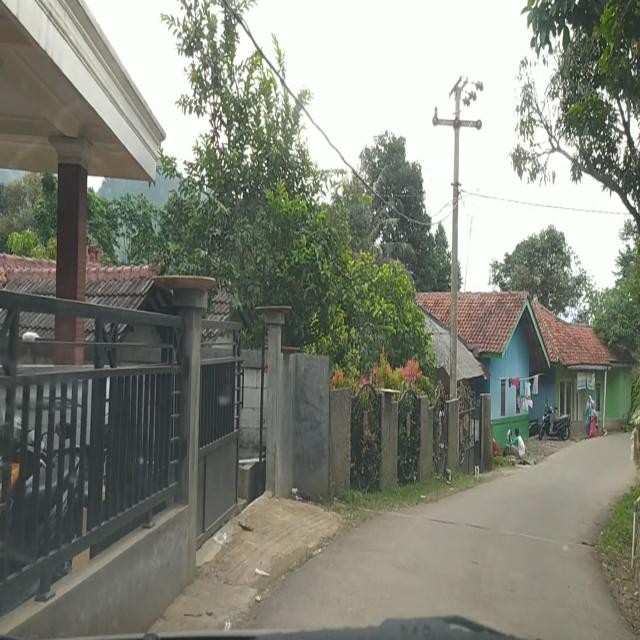Sewer Cover: (415, 512, 493, 531)
